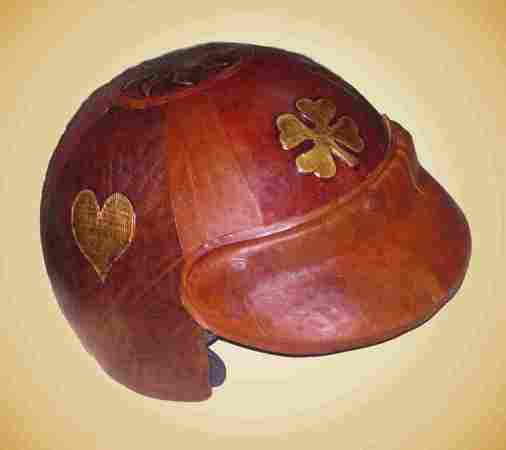helmet: (55, 64, 451, 373)
